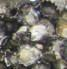Oyster-Open: (42, 37, 67, 62), (18, 44, 42, 67), (30, 20, 54, 40), (43, 0, 67, 15), (24, 9, 40, 26), (56, 19, 67, 38), (42, 6, 57, 18), (16, 26, 31, 36), (32, 61, 49, 69), (29, 0, 45, 7)
